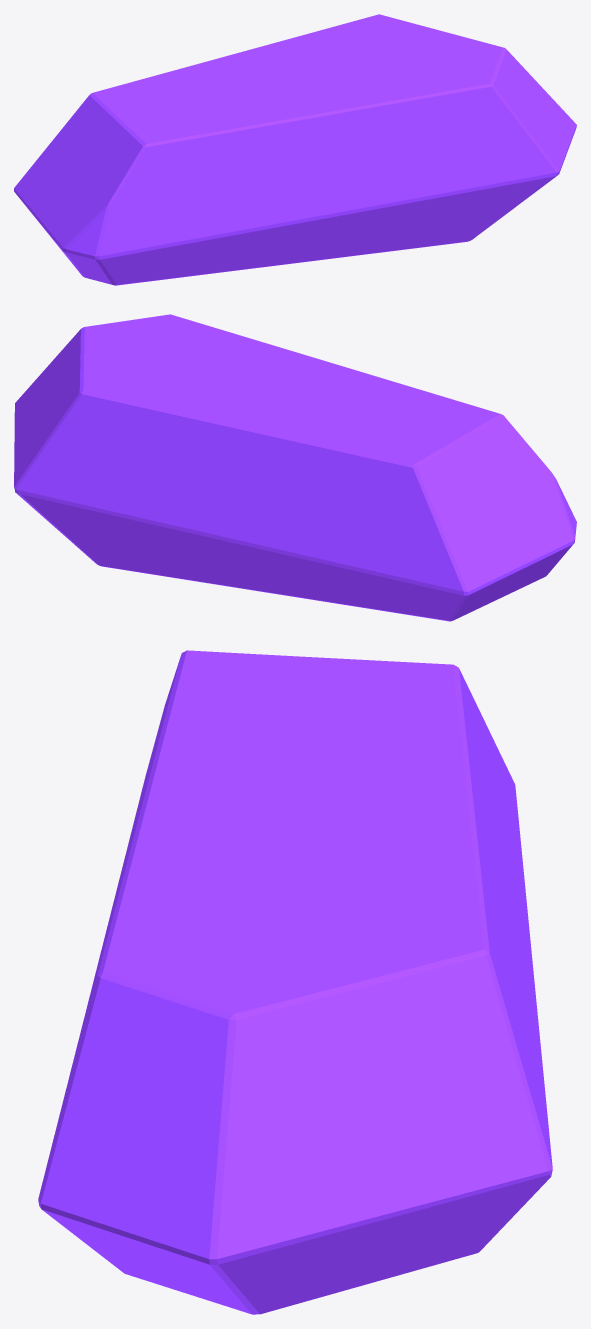
File: crystal_shard_04.glb
3 views of the same model, one above another, from view 1: azimuth 30°, elevation 25°; view 2: azimuth 150°, elevation 25°; view 3: azimuth 270°, elevation 25° (orthographic). The views are drawn at different scales.
Parts seen in each view (by area): view 1: crystal_shard_04; view 2: crystal_shard_04; view 3: crystal_shard_04.
Boxes of the visible parts, bbox=[...] form: crystal_shard_04: bbox=[14, 14, 576, 285]; crystal_shard_04: bbox=[14, 314, 576, 621]; crystal_shard_04: bbox=[38, 650, 552, 1314].
Bounding box in the file's own units: 0.5 × 0.1522 × 0.218.
